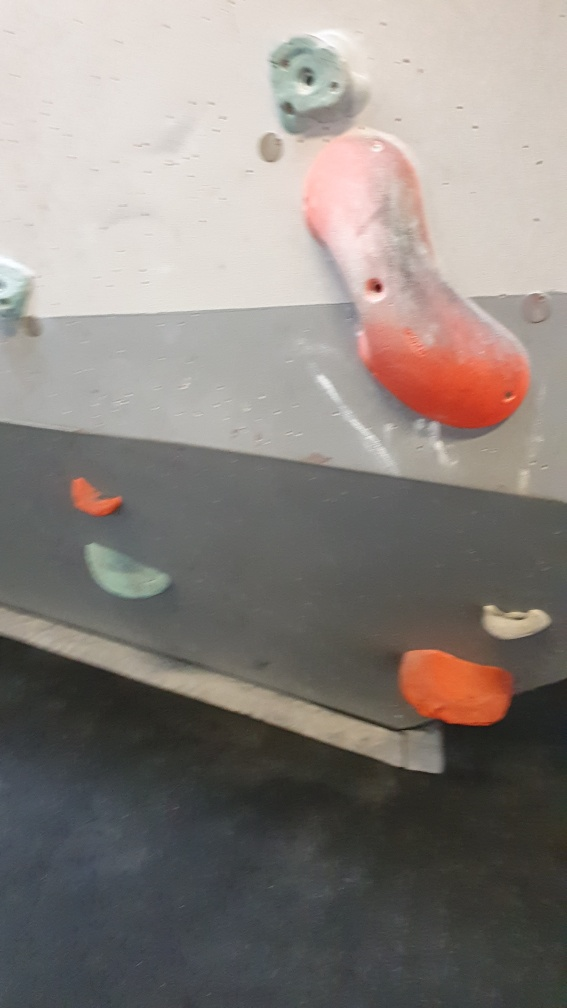Pinch: (294, 130, 532, 434)
